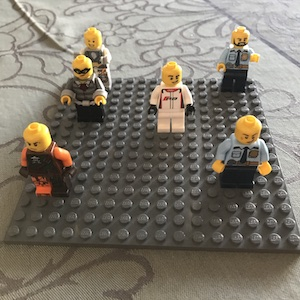Lego: (14, 121, 72, 198), (210, 114, 271, 186), (147, 60, 195, 138), (57, 56, 108, 122), (215, 26, 260, 92), (76, 26, 113, 96)
